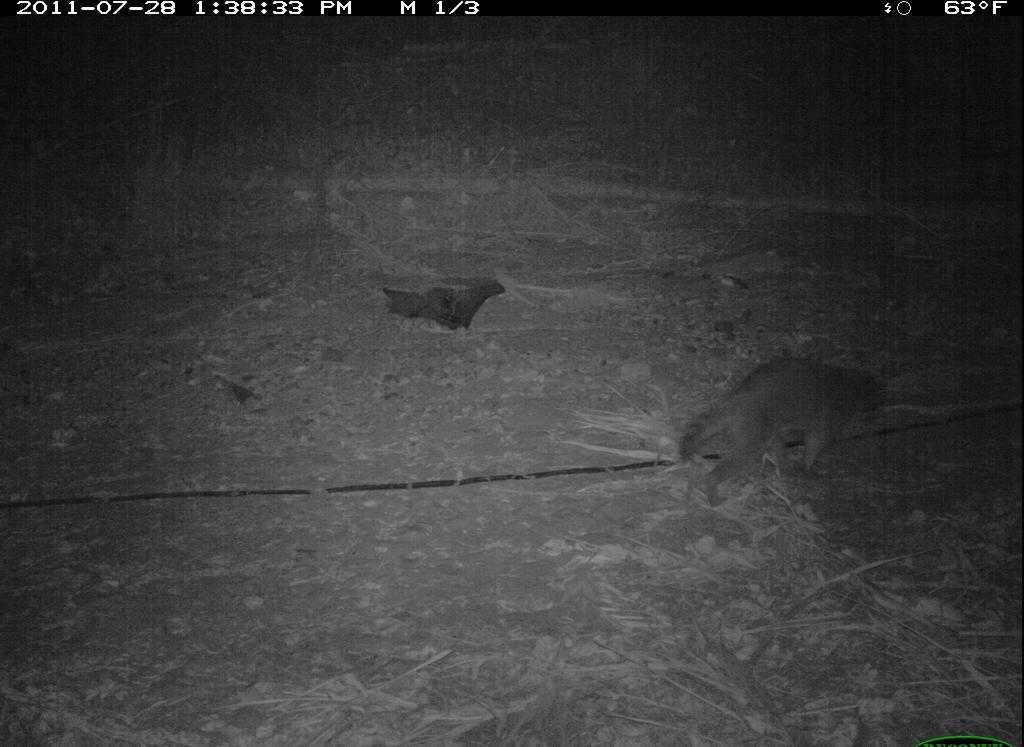raccoon: (673, 350, 889, 507)
